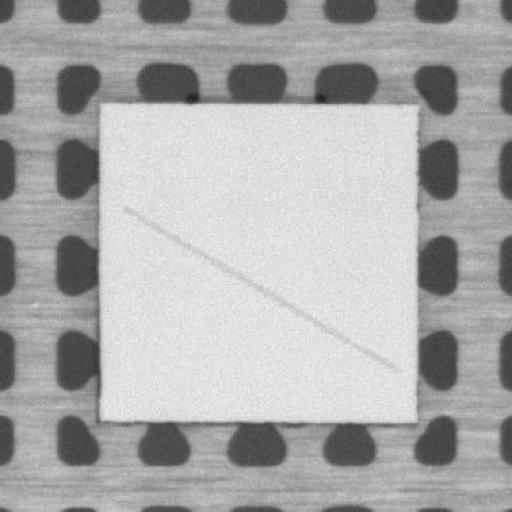DIE_CRACK: (122, 207, 397, 371)
